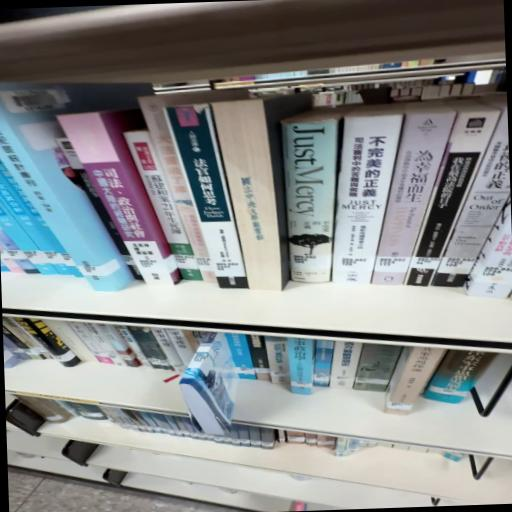backward: (212, 95, 311, 291)
book: (54, 114, 183, 296), (201, 93, 314, 296), (146, 102, 250, 297), (123, 126, 211, 294)
